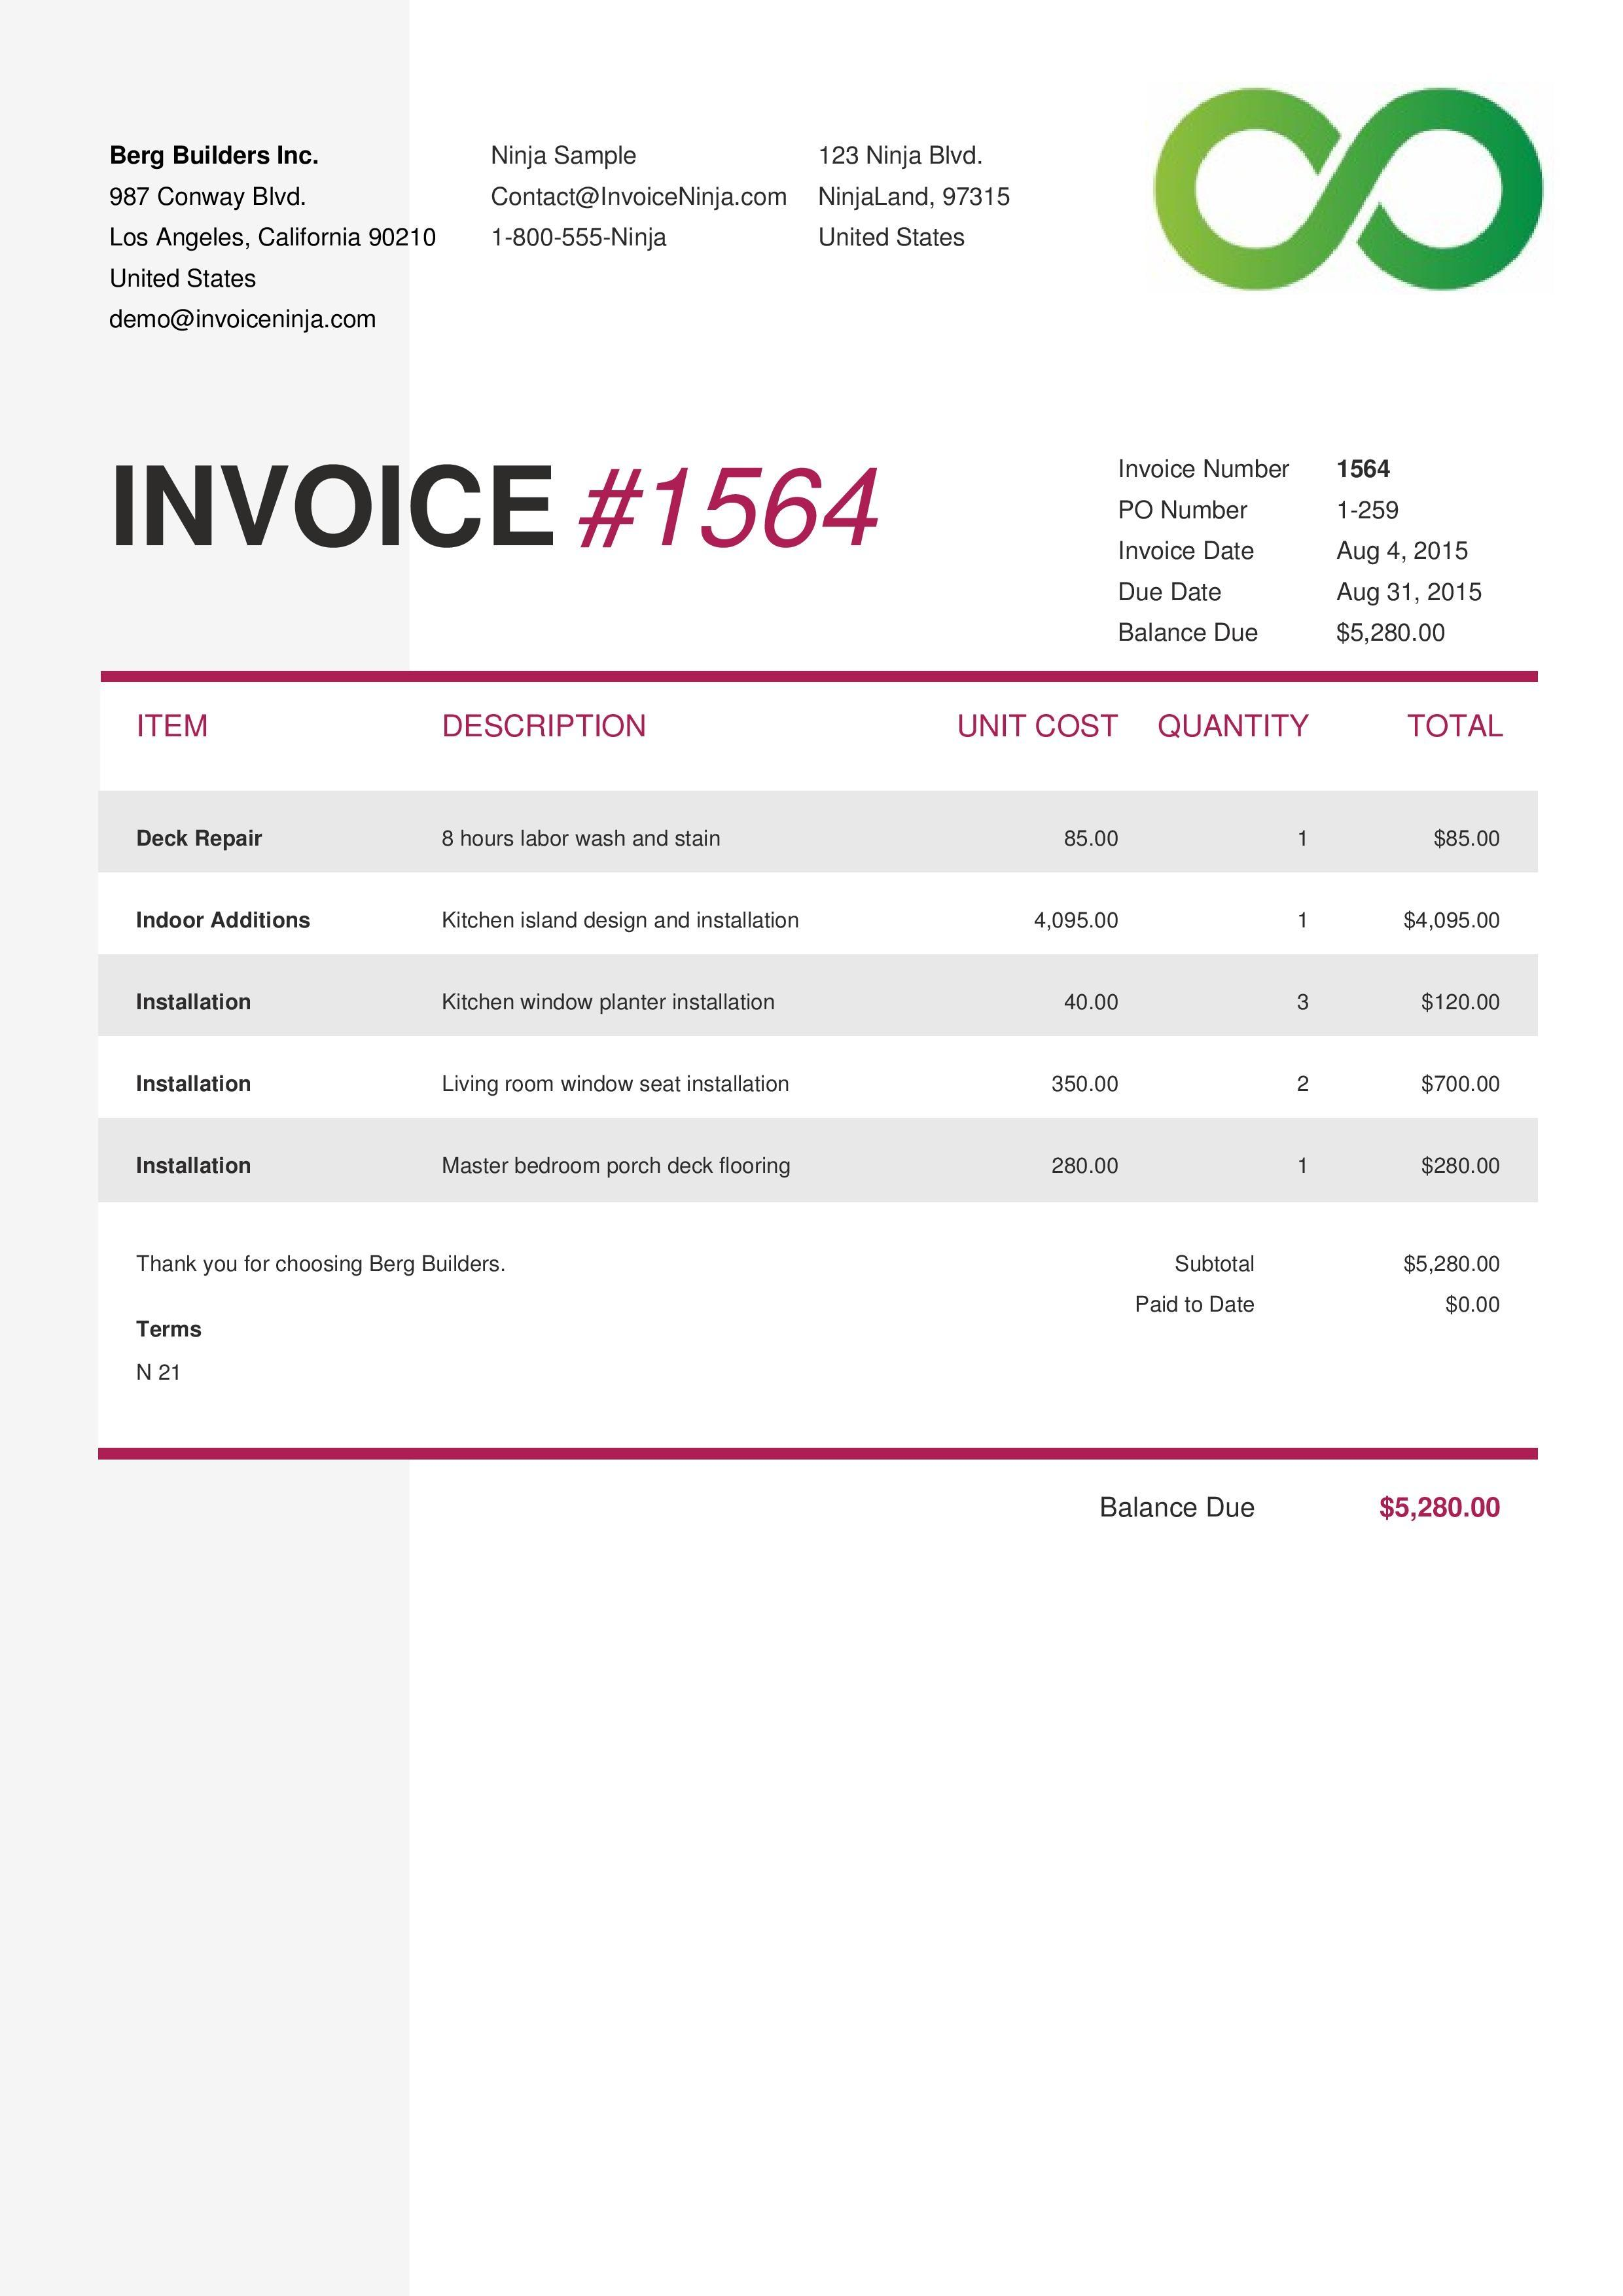ROI: (91, 680, 1562, 1456), (84, 118, 1031, 383), (1063, 441, 1540, 657)
